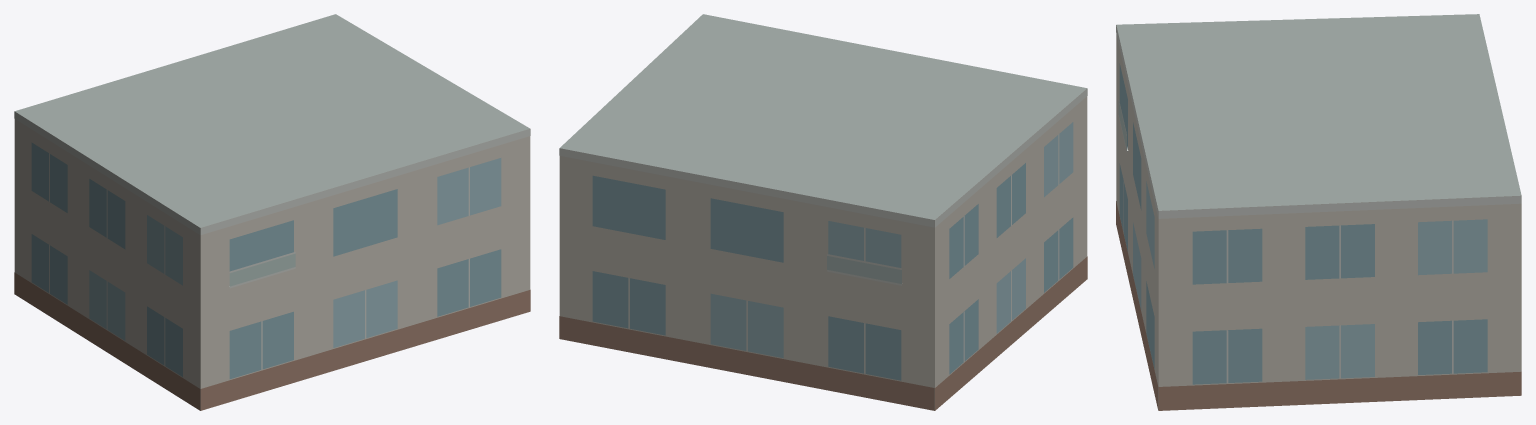
The model's file is survey-upis-32949500.glb.
3 renders of one model, left to right at view 1: azimuth 30°, elevation 25°; view 2: azimuth 150°, elevation 25°; view 3: azimuth 270°, elevation 25°, orthographic. The views are drawn at different scales.
Visible parts, largest first — view 1: survey-upis-32949500.tmp; view 2: survey-upis-32949500.tmp; view 3: survey-upis-32949500.tmp.
Boxes of the visible parts, bbox=[...] form: survey-upis-32949500.tmp: bbox=[14, 14, 530, 410]; survey-upis-32949500.tmp: bbox=[559, 14, 1087, 410]; survey-upis-32949500.tmp: bbox=[1116, 14, 1521, 410].
Size of the model in its own units: 12.89 by 6.1 by 11.22.
